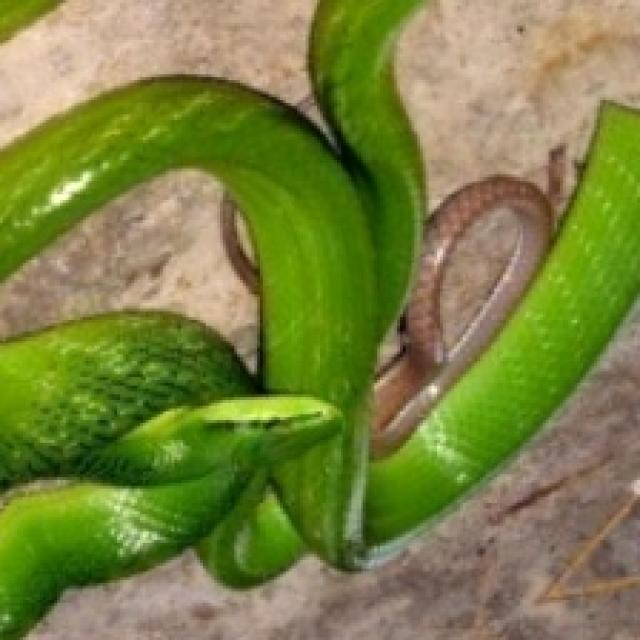red-tailed green ratsnake: (0, 0, 640, 639), (29, 306, 637, 637)
